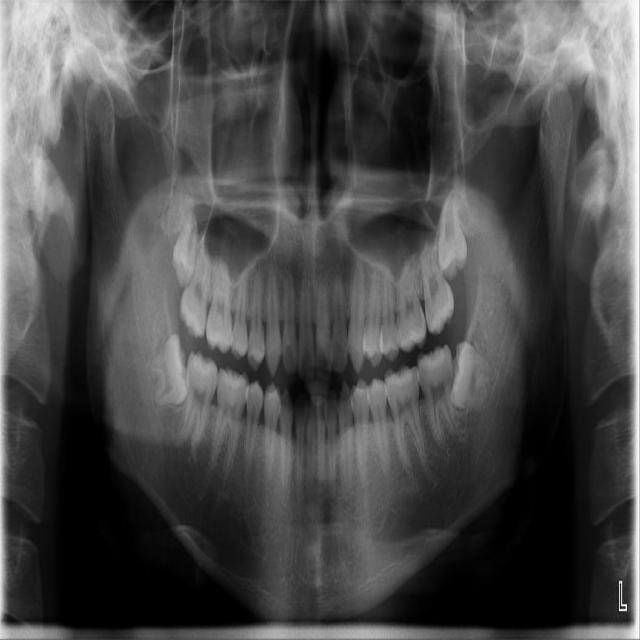3M ESPE Implant: (168, 209, 201, 290)
BioHorizons Implant: (419, 235, 457, 337)
BioLife Implant: (436, 188, 471, 282)
Biomet 3i Implant: (439, 338, 502, 416)
Blue Sky Bio Implant: (413, 344, 466, 449)
Caries: (176, 241, 214, 339)
Implant: (177, 349, 221, 449)
Keystone Dental Implant: (144, 332, 195, 408)
